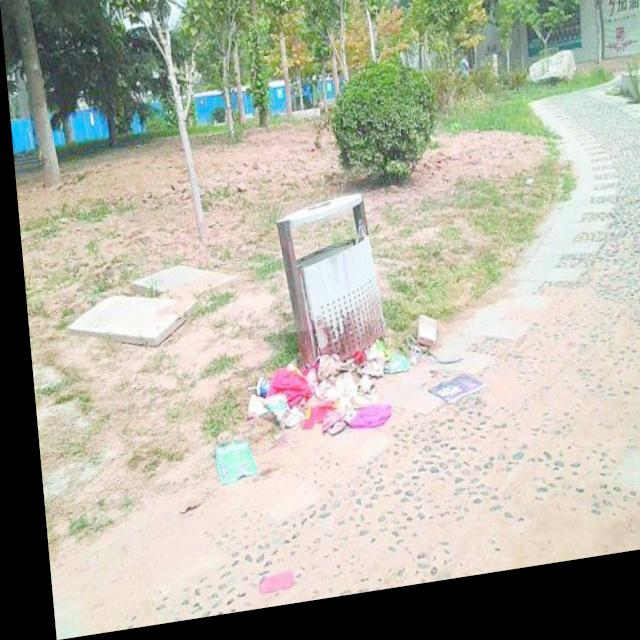garbage: (197, 319, 477, 489)
garbage_bin: (271, 200, 378, 372)
